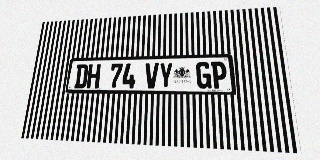4: (122, 63, 136, 88)
7: (109, 63, 123, 88)
D: (74, 64, 89, 88)
G: (196, 62, 212, 89)
H: (86, 64, 101, 88)
P: (211, 61, 228, 89)
V: (145, 63, 159, 88)
Y: (159, 62, 173, 89)
